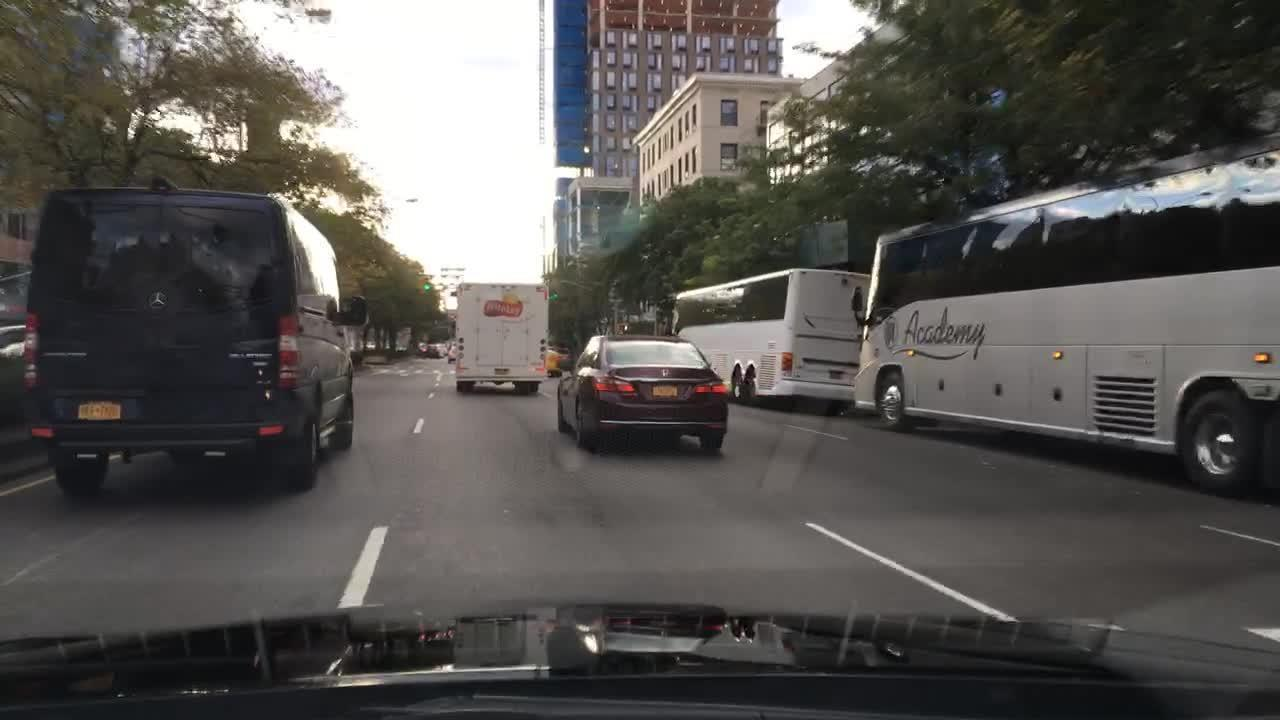Mercedes: (145, 286, 173, 314)
